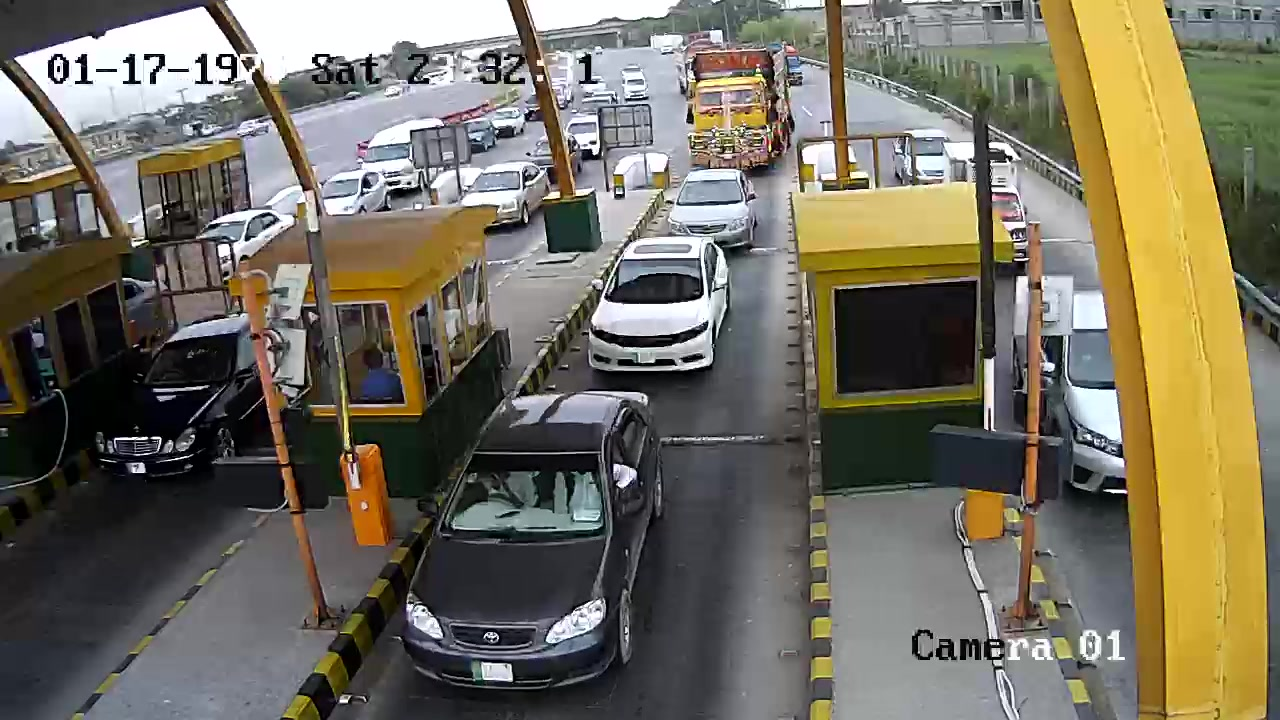F1: (400, 378, 685, 699), (577, 235, 736, 383)
